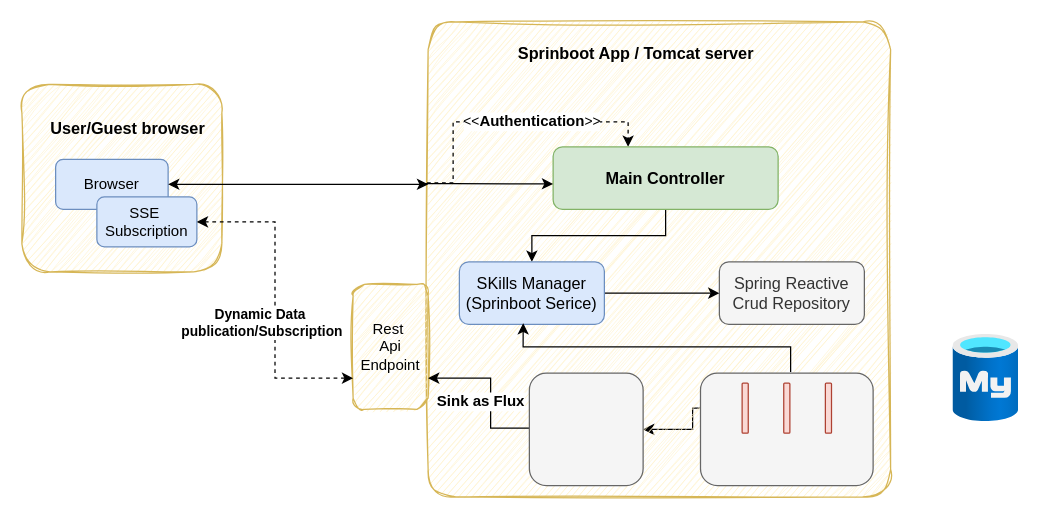
Image size: 1063x519. Some labels were removed from this diagram. The shapes that lost their labels are listed below. From the top down, each one's centre as x and y in pixels, then its label:
At (x=985, y=377): "Remote Mysql Server".
At (x=585, y=429): "Spring Reactor Sink API".
At (x=786, y=429): "ThreadPool with Scheduled workers".
